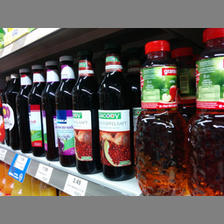juice: (133, 40, 189, 194), (187, 29, 224, 196), (97, 41, 132, 179), (72, 50, 100, 175), (54, 55, 75, 168), (16, 67, 31, 155)
